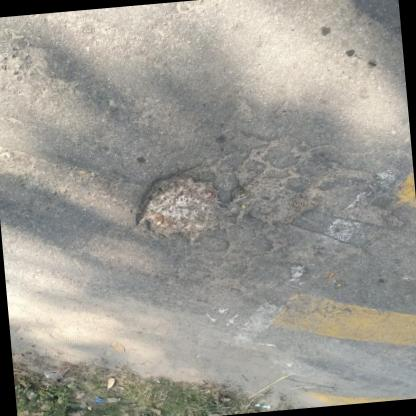pothole: (128, 165, 230, 248), (226, 170, 321, 232)
